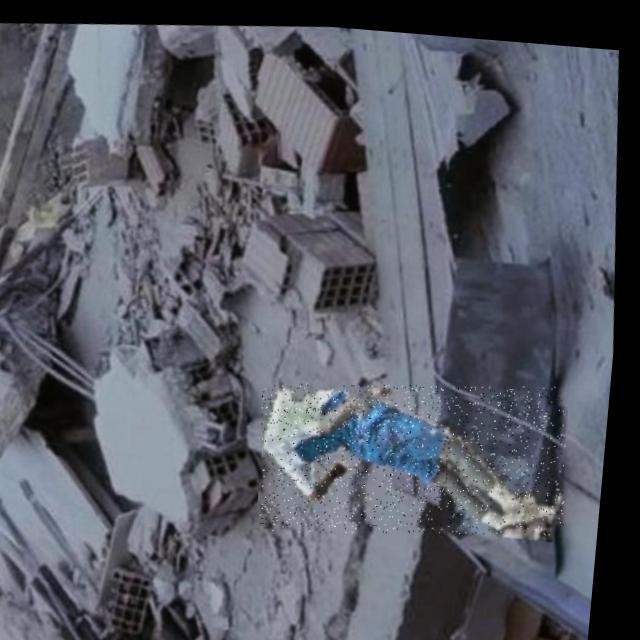Person in Rubble: (258, 355, 583, 544)
